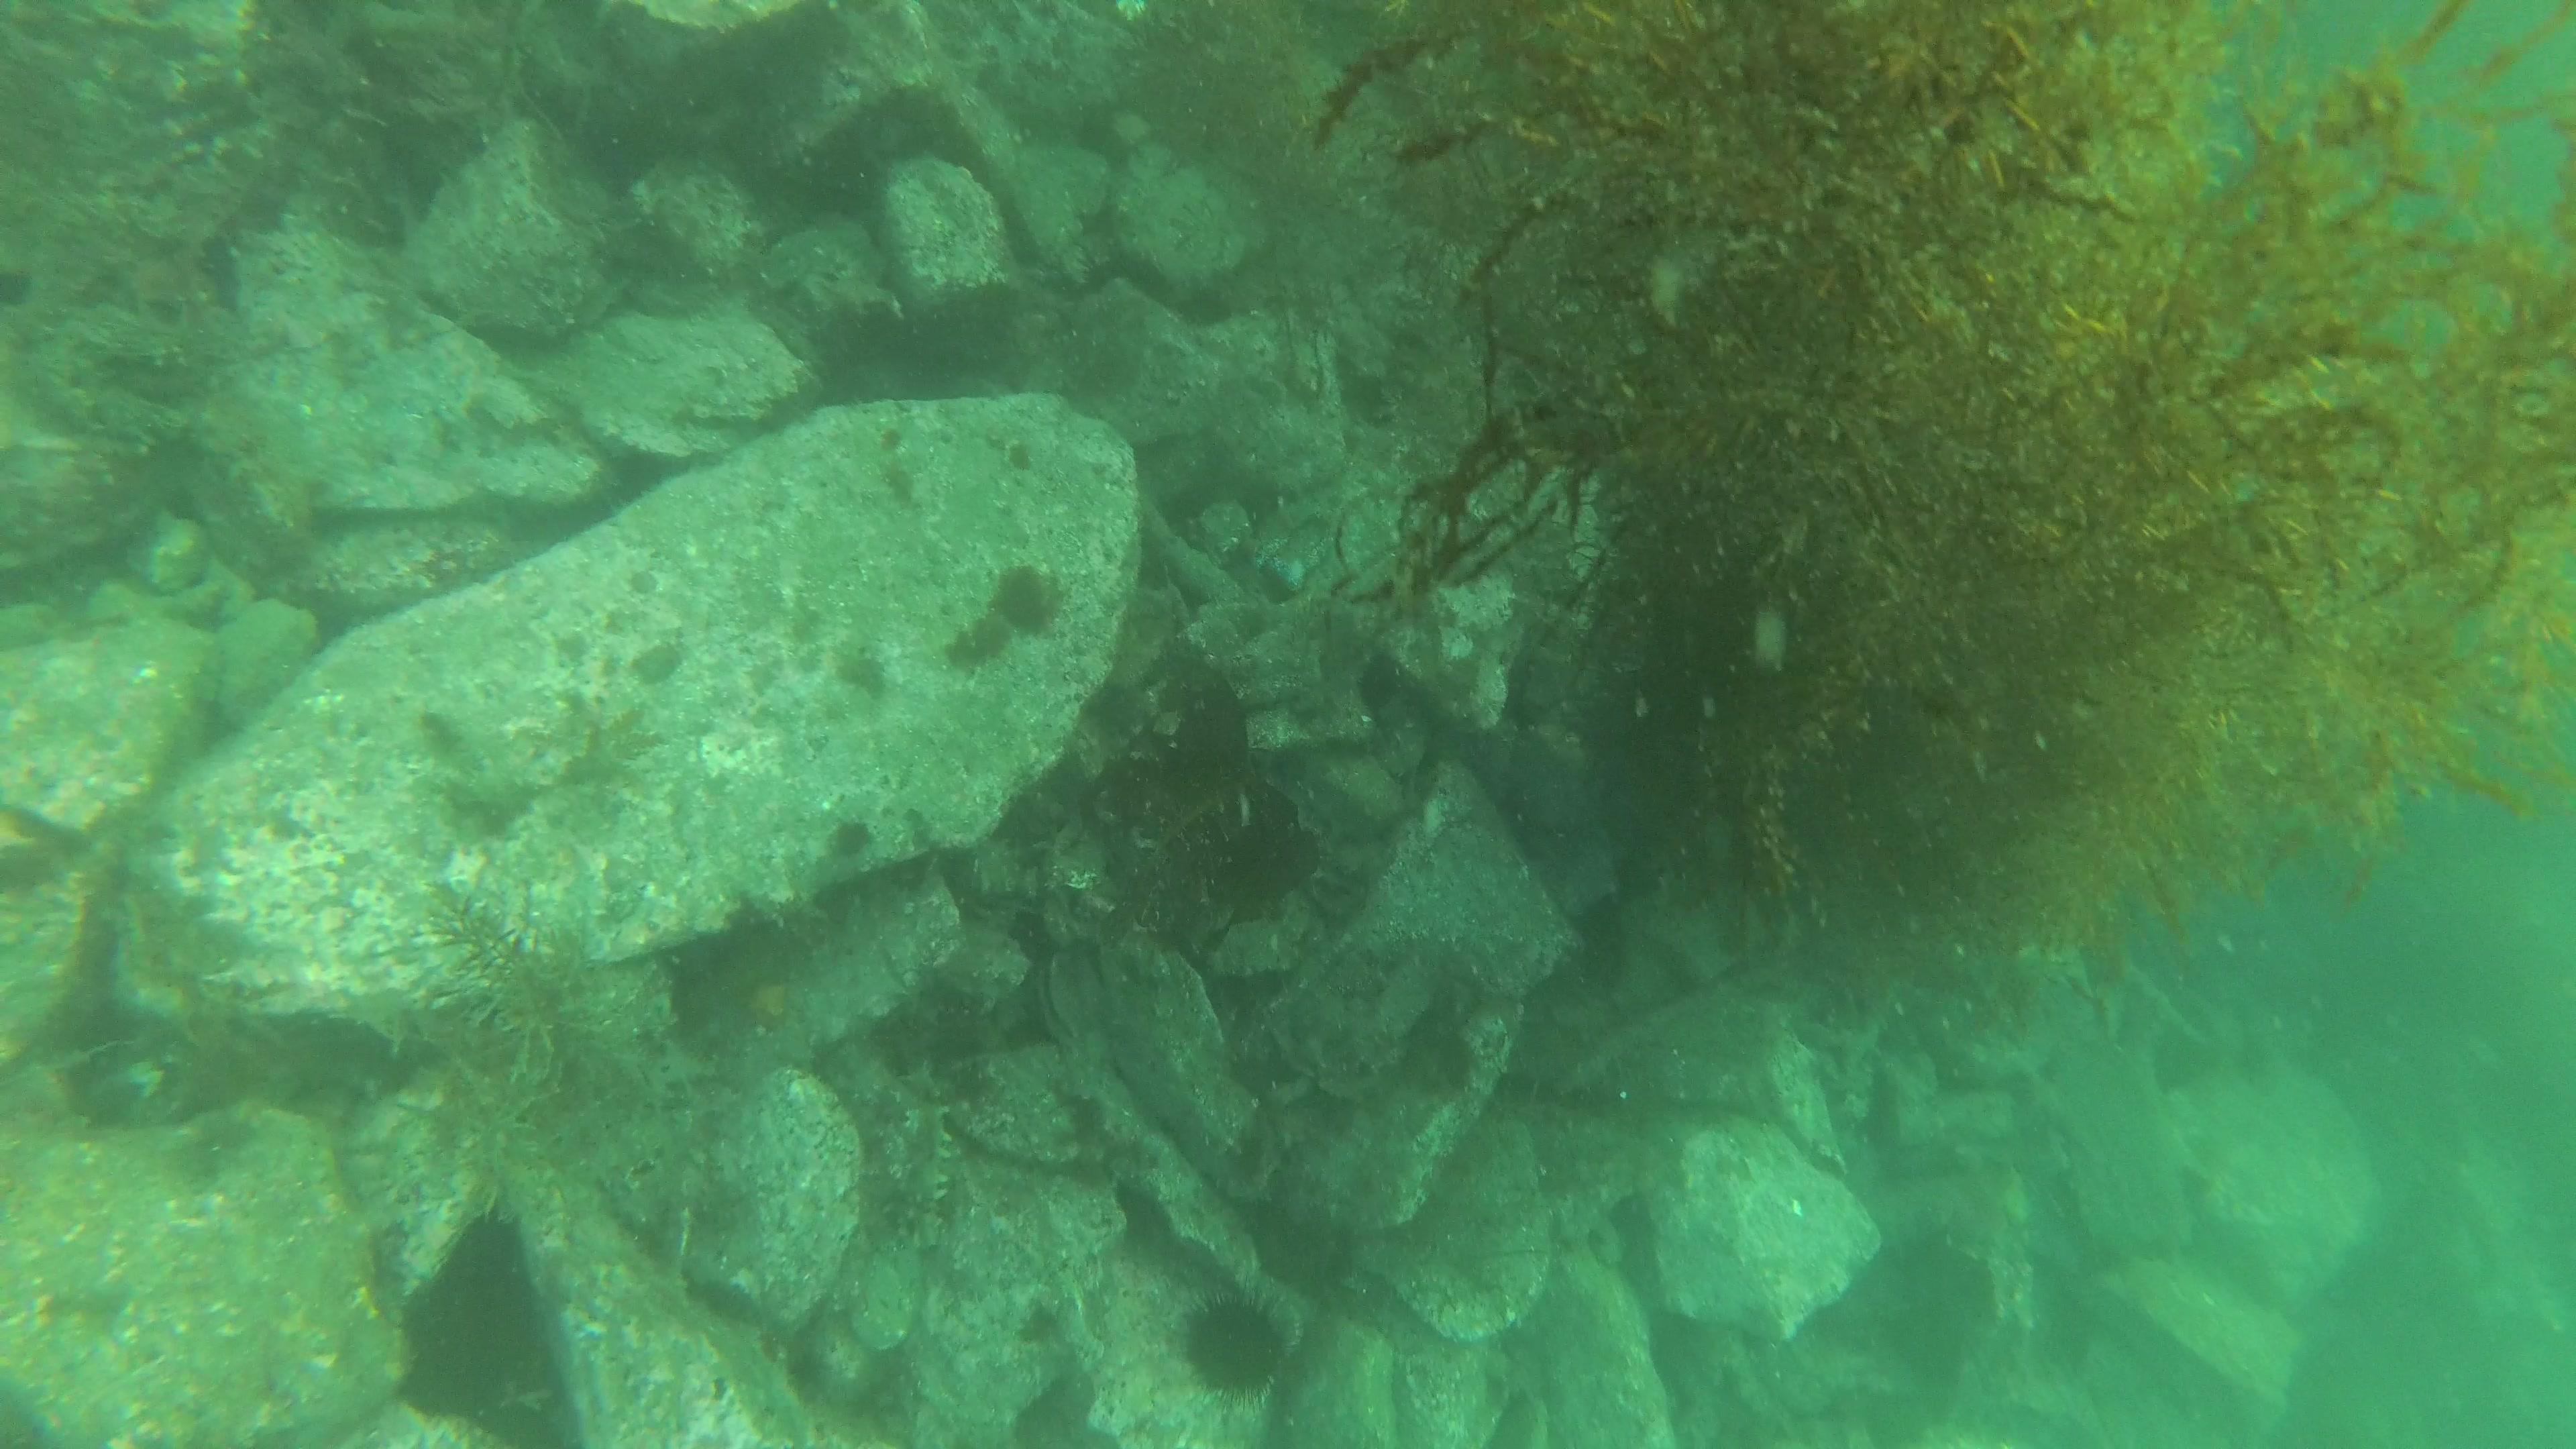echinus: (1177, 1281, 1292, 1394)
holothurian: (867, 1056, 971, 1254)
